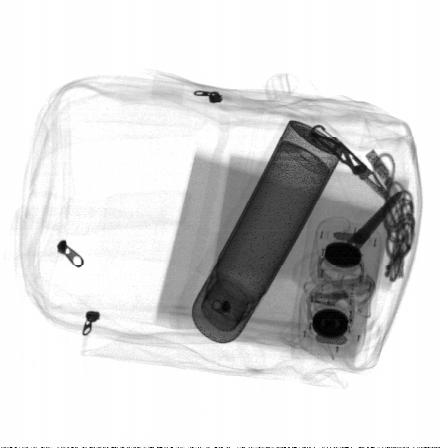Knife: (310, 124, 398, 206)
Scissors: (290, 189, 401, 291)
